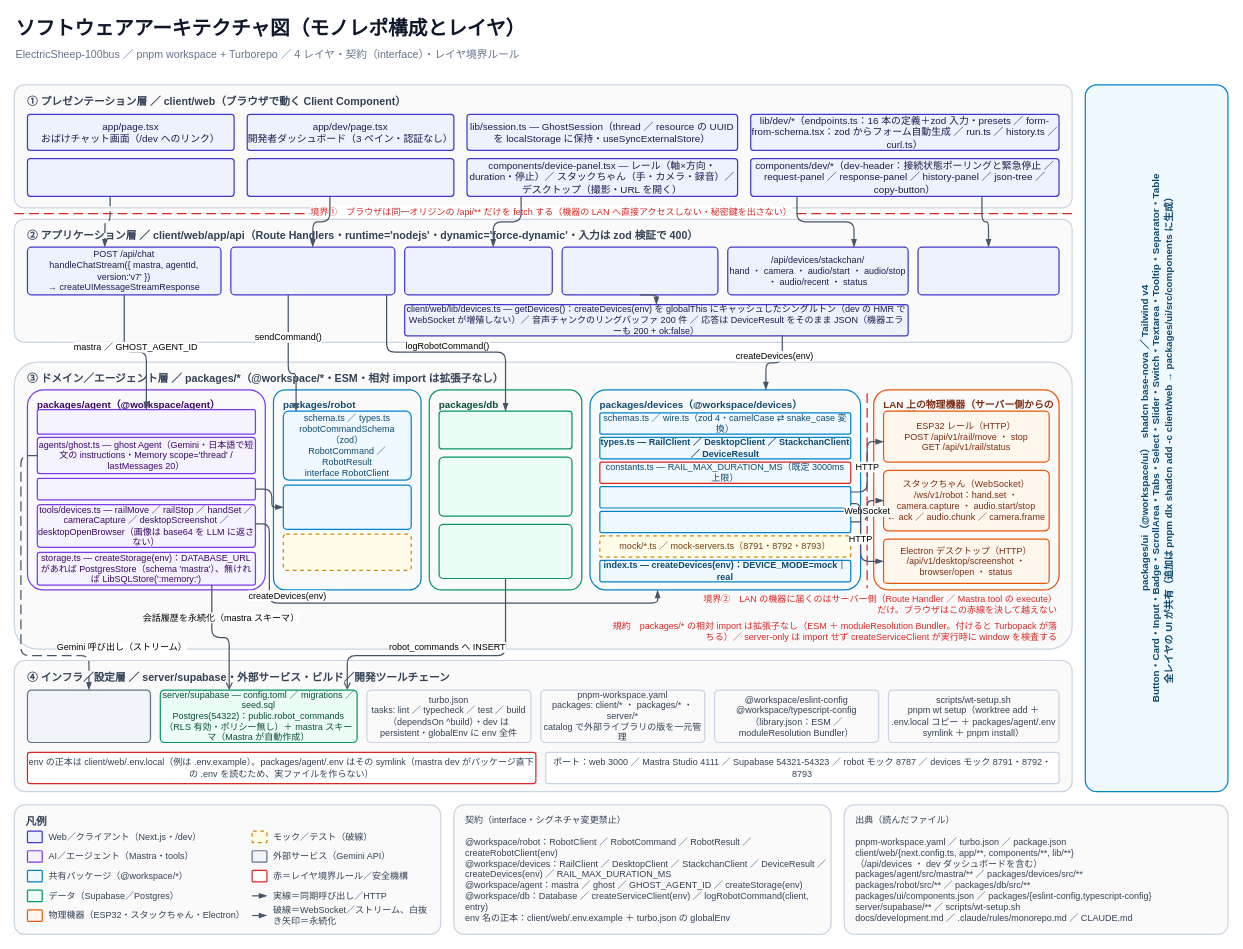
Some shapes in this 1243 by 949 pixel diagram are drawn without their labels. Here are the shapes that lost their labels. From the top down, the centre of each, then its label:
[130,177]: components/ghost-chat.tsx useChat + DefaultChatTransport（tool-* part の演出）
[350,177]: components/robot-panel.tsx emote ／ move ／ stop ／ status の手動操作
[312,270]: POST /api/robot/command GET /api/robot/status
[478,270]: /api/devices/rail/ move ・ stop ・ status
[639,270]: /api/devices/desktop/ screenshot ・ browser/open ・ status
[988,270]: GET /api/dev/env 秘密でない env のみ（キー類は設定済み／未設定の真偽値だけ）
[146,421]: mastra/index.ts — export mastra ／ GHOST_AGENT_ID ／ createStorage
[505,429]: database.types.ts type Database（supabase gen types）
[146,488]: tools/robot.ts — robotCommand ／ robotStatus
[505,486]: server.ts createServiceClient(env) secret key 無しなら null window 検査でサーバー限定
[725,497]: http/{request,rail,desktop}.ts（fetch ＋ timeout・move は再送なし）
[346,507]: index.ts createRobotClient(env) ROBOT_MODE で mock｜http
[725,521]: ws/stackchan.ts（request_id 相関・再接続・イベント購読）
[346,552]: http.ts ／ mock.ts mock-server.ts（8787）
[505,551]: index.ts logRobotCommand(client, entry) Route Handler と tools/robot.ts の両方から呼ぶ
[88,716]: Google Gemini API （Mastra モデルルーター GHOST_MODEL）
